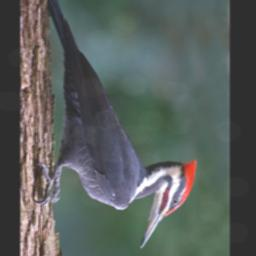Woodpecker: (32, 0, 196, 248)
